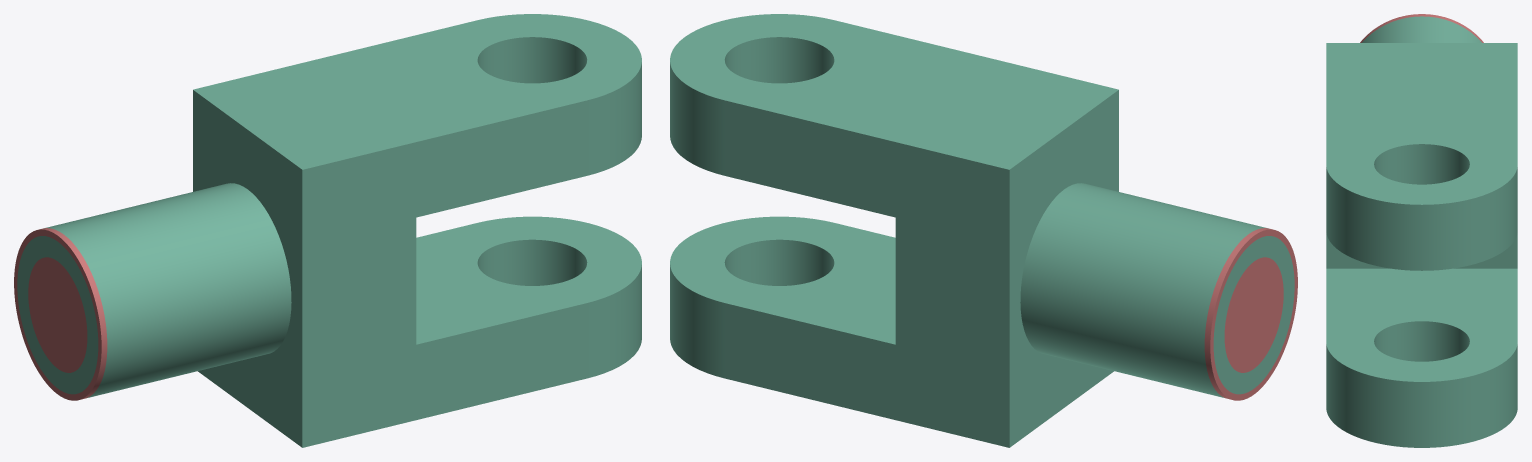
Rendered from step_06.glb.
3 views of the same model, side by side, from view 1: azimuth 30°, elevation 25°; view 2: azimuth 150°, elevation 25°; view 3: azimuth 270°, elevation 25° (orthographic). The views are drawn at different scales.
Visible parts, largest first — view 1: part__fork end, removed__fork end; view 2: part__fork end, removed__fork end; view 3: part__fork end, removed__fork end.
Part boxes in pixels (x1,y1,x2,y2): part__fork end: (17,14,641,447); removed__fork end: (14,228,107,400); part__fork end: (670,14,1294,447); removed__fork end: (1204,228,1297,400); part__fork end: (1326,16,1517,447); removed__fork end: (1360,14,1483,42).
Bounding box in the file's own units: 150 × 70 × 50.
